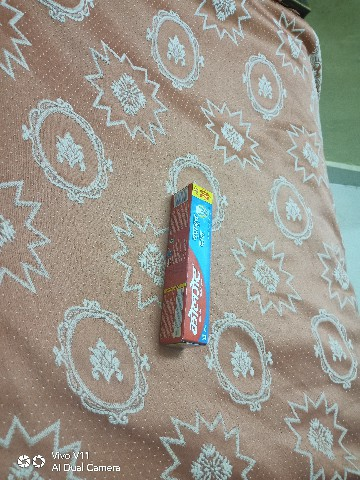colgatetoothpaste small: (162, 172, 232, 353)
